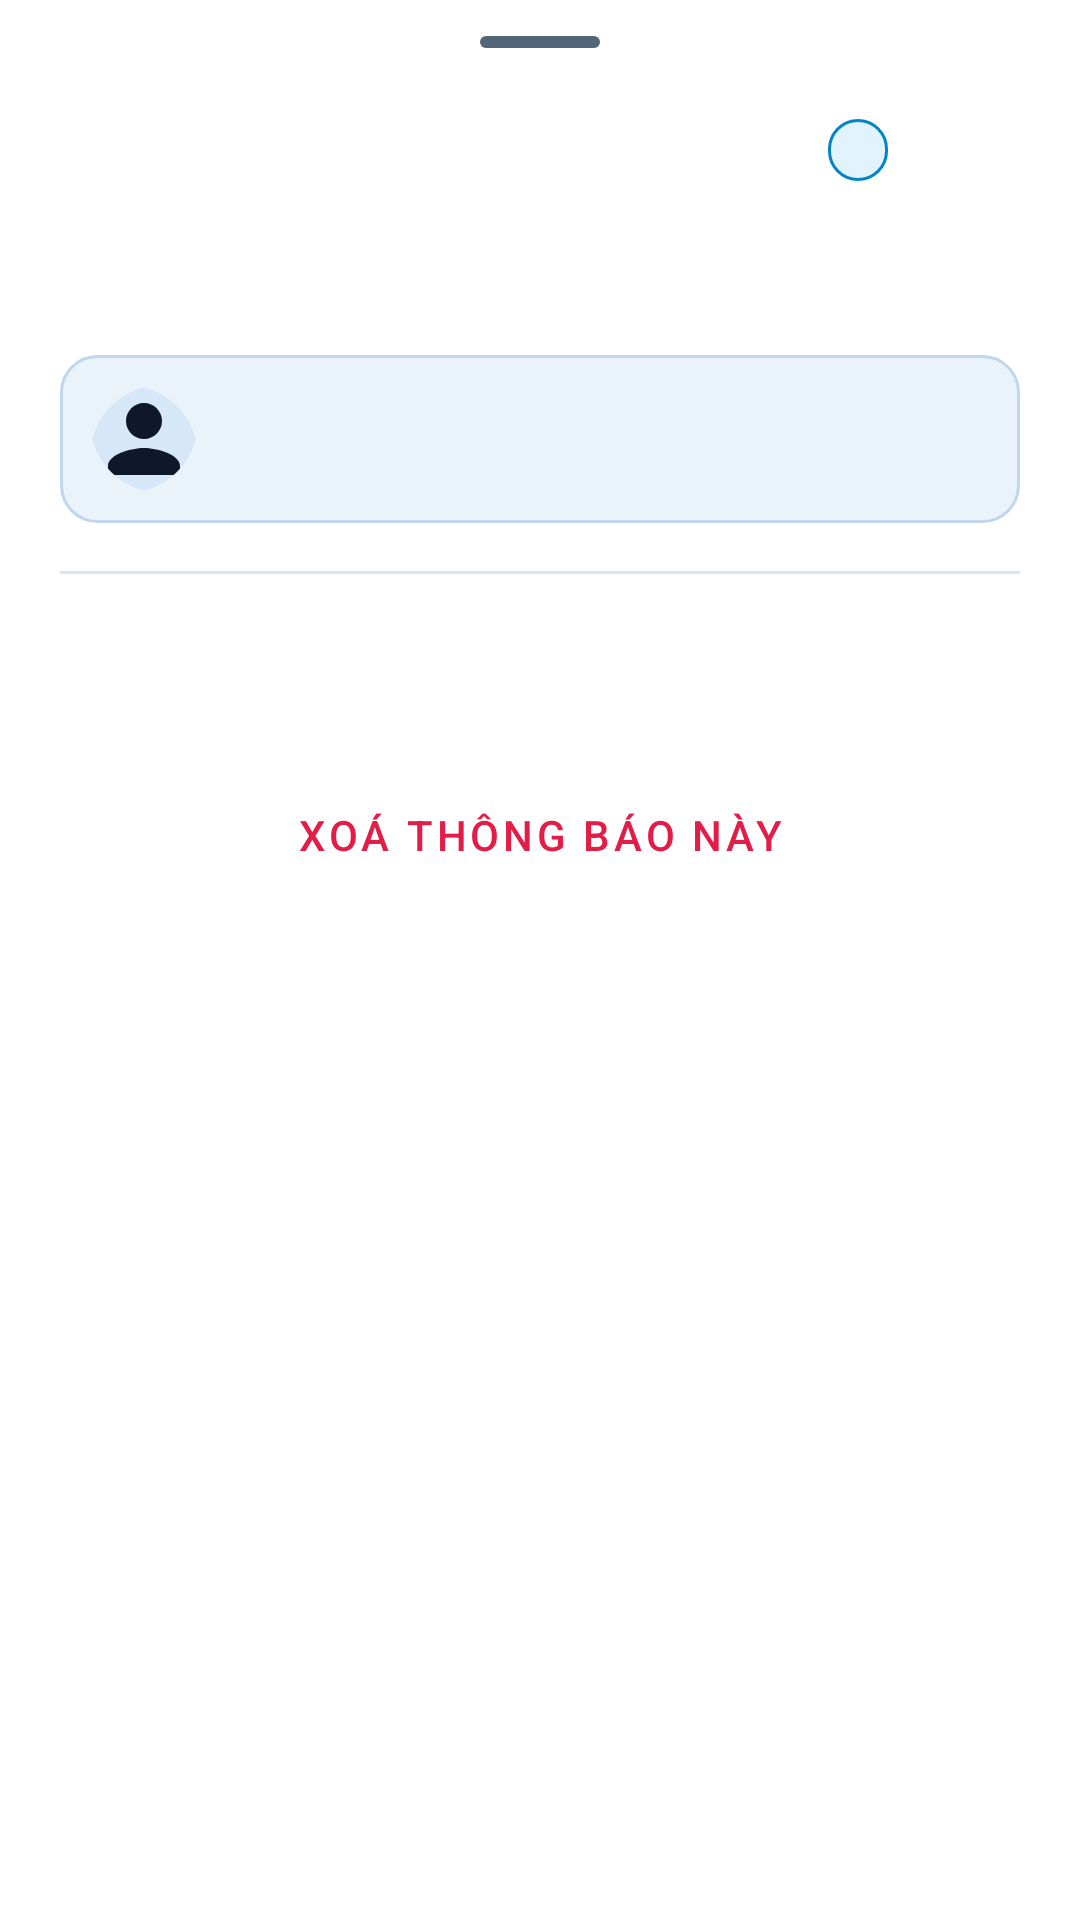

Icon click points for this 1080 × 1920 phone screenshot, format (x=x, y=y):
person: (x=144, y=439)
